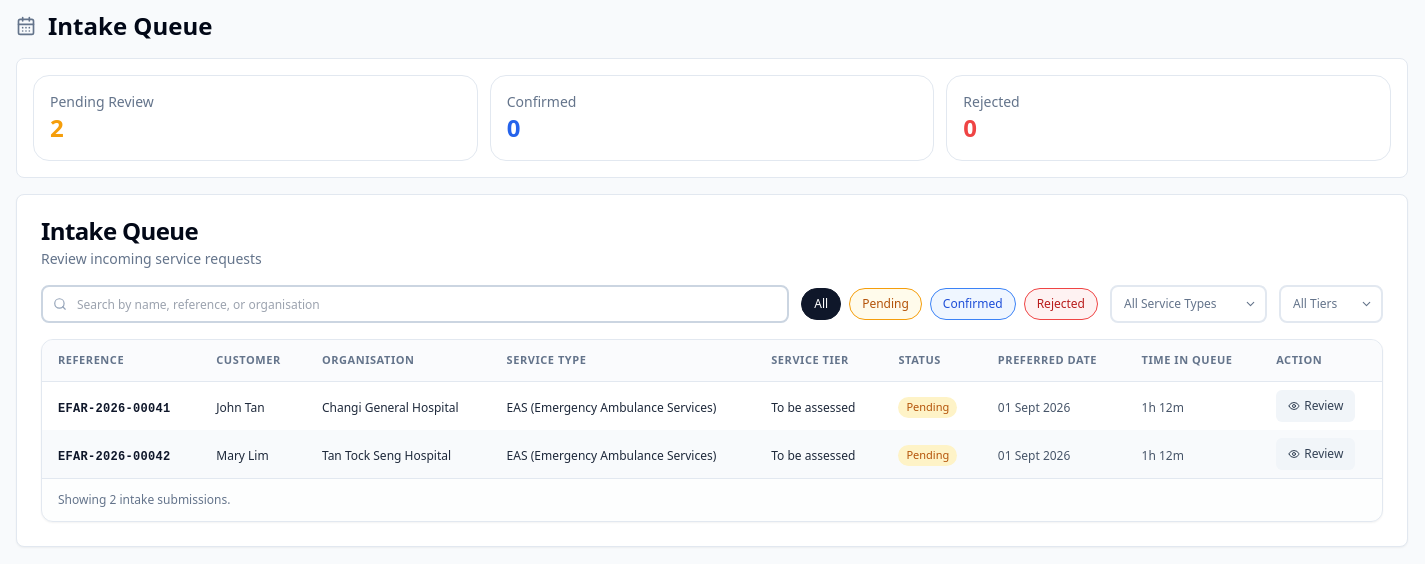
Test case: IntakeQueuePage - search and filtering › search narrows the table to rows matching name, reference, or organisation
Expected: the text "EFAR-2026-00041" is shown, [58, 402, 170, 416]
Expected: the text "EFAR-2026-00042" is shown, [58, 450, 170, 464]
Type "Mary" into the field with placeholder "Search by name, reference, or organisation" at x=415, y=304, box [41, 285, 789, 323]
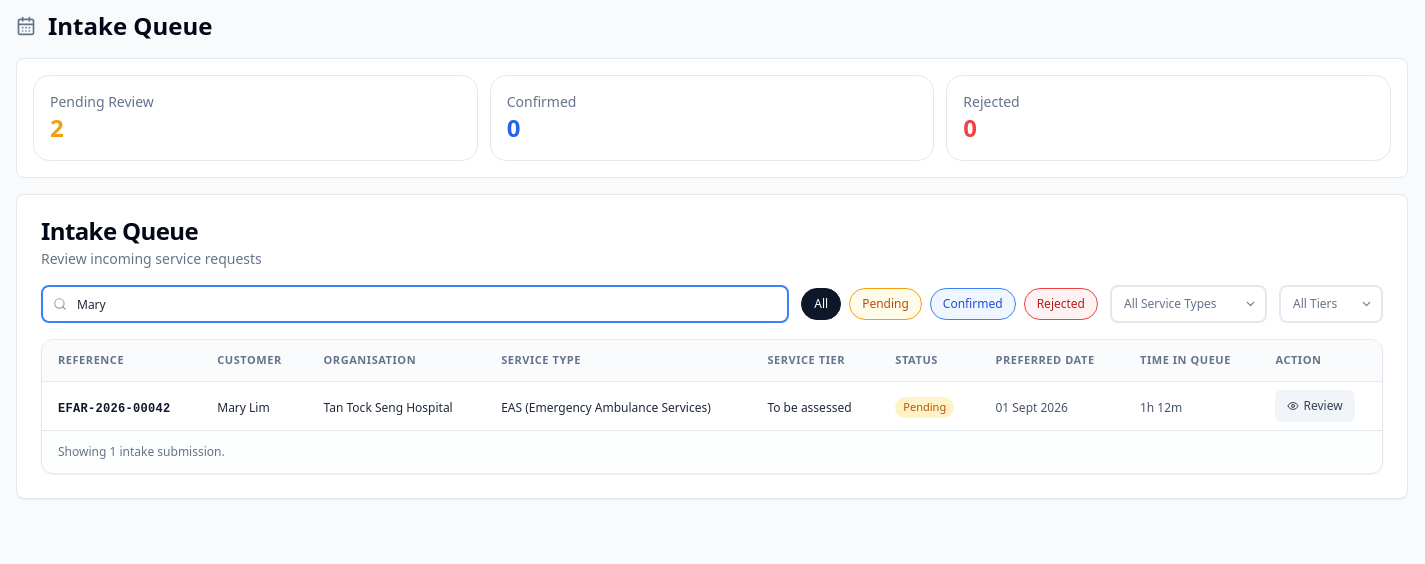
Expected: the text "EFAR-2026-00042" is shown, [58, 402, 170, 416]
Result: the text "EFAR-2026-00041" is gone
